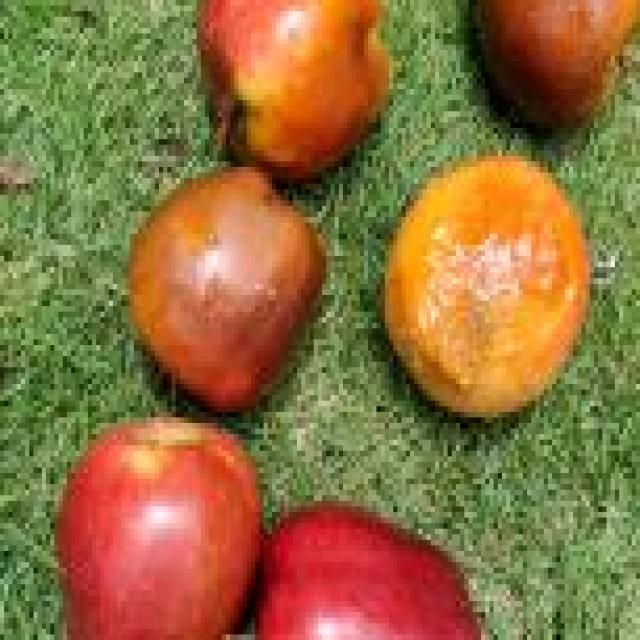Bad_Apple 0-1 day: (385, 156, 590, 416)
Good_Apple 10-21 days: (56, 423, 481, 640)
